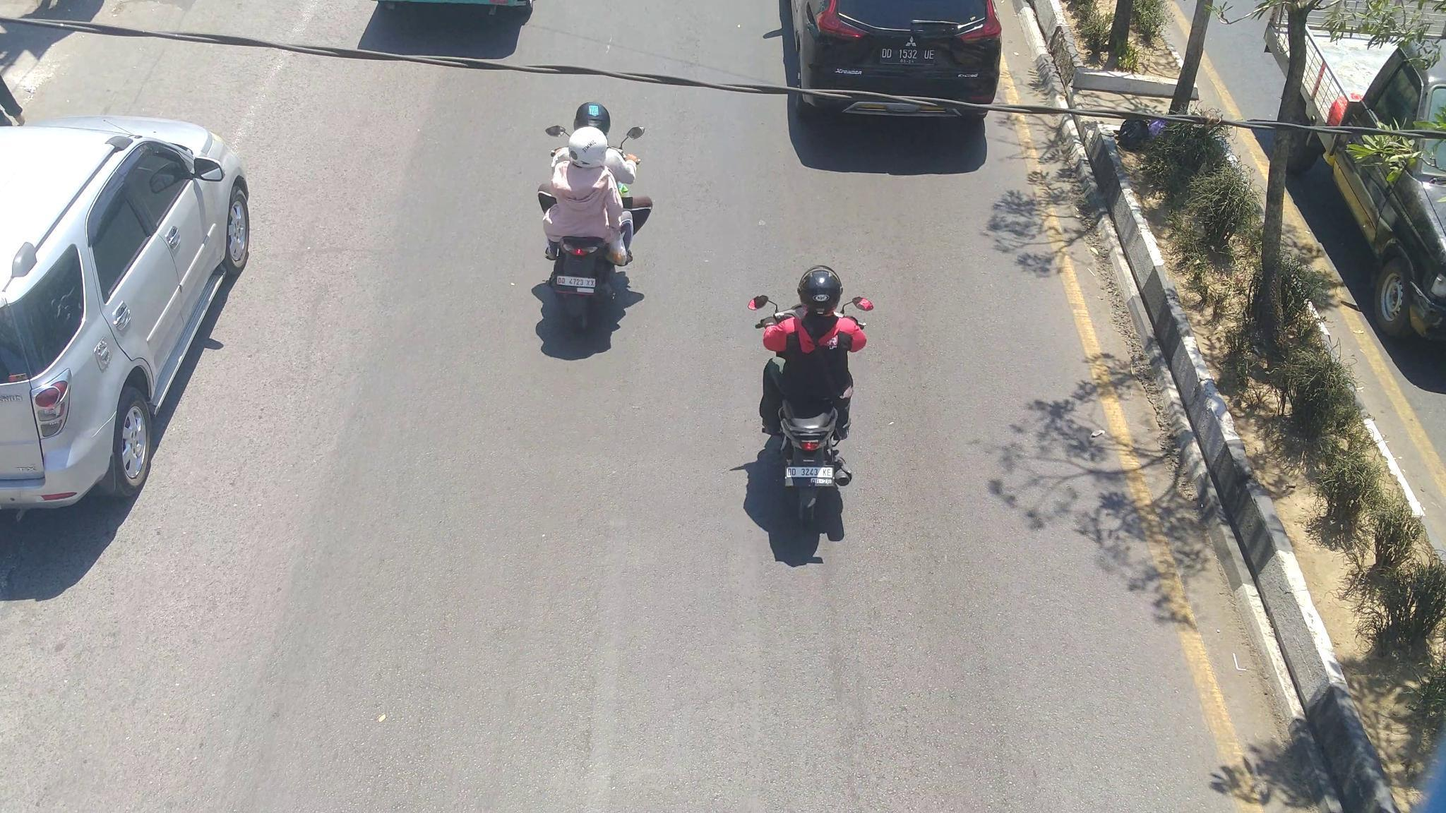Helmet: (797, 262, 848, 320), (571, 95, 615, 141), (567, 126, 611, 172)
bike: (747, 289, 876, 524), (542, 121, 647, 324)
number-plate: (785, 464, 836, 480), (553, 274, 597, 291)
rider: (764, 263, 868, 442), (545, 121, 629, 264)
